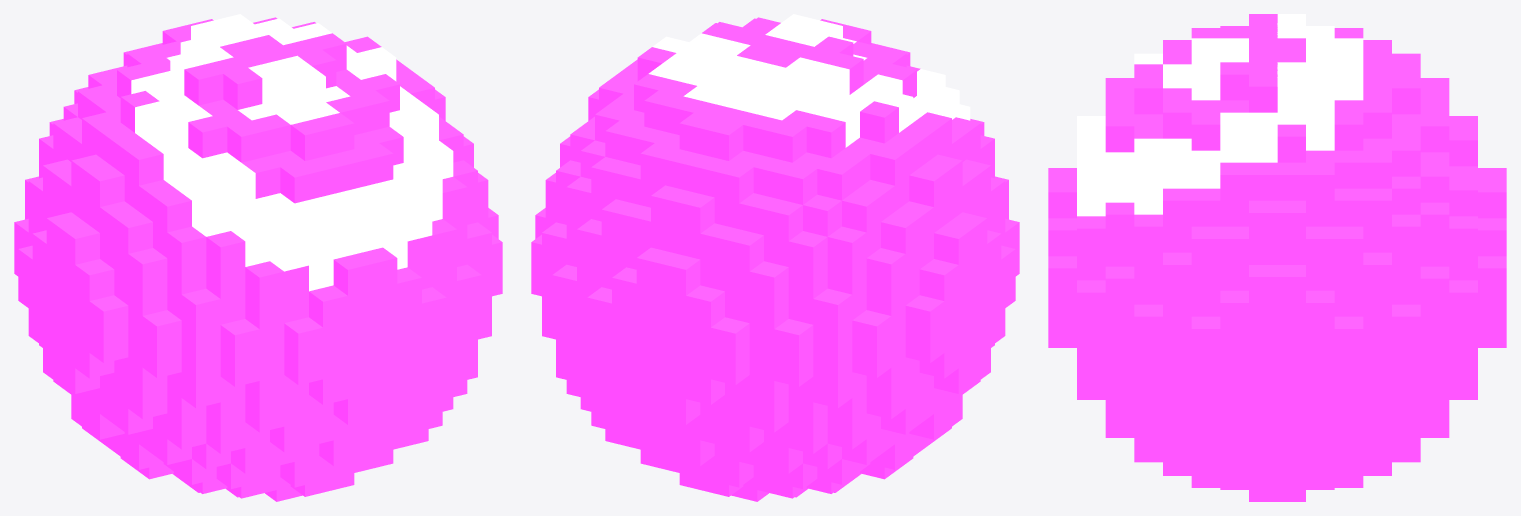
File: item_PHASE_SHIFT.glb
The picture shows the model from 3 angles, left to right: view 1: azimuth 30°, elevation 25°; view 2: azimuth 150°, elevation 25°; view 3: azimuth 270°, elevation 25°; orthographic projection.
Visible parts, largest first — view 1: item_PHASE_SHIFT; view 2: item_PHASE_SHIFT; view 3: item_PHASE_SHIFT.
Boxes of the visible parts, x1,y1,x2,y2 form: item_PHASE_SHIFT: (14,14,502,501); item_PHASE_SHIFT: (531,14,1019,501); item_PHASE_SHIFT: (1048,14,1506,501).
Bounding box in the file's own units: 0.1818 × 0.1818 × 0.1818.
1 material, 1 textured.
